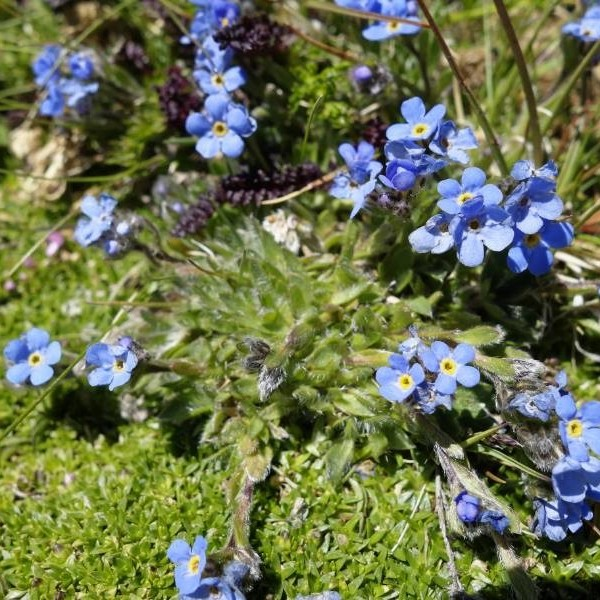obstacle: (362, 298, 584, 565), (342, 90, 573, 299), (164, 2, 289, 167), (16, 303, 144, 418)
